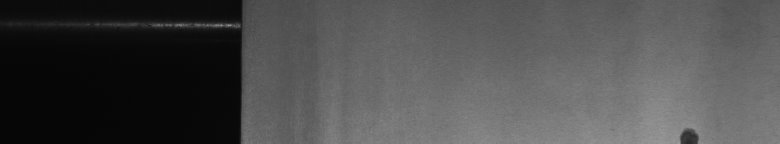fi: (676, 121, 703, 136)
